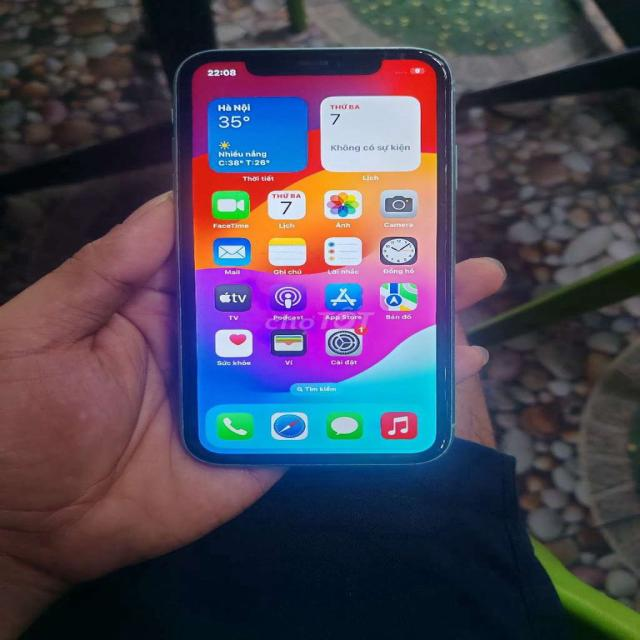gen_11: (152, 38, 468, 474)
